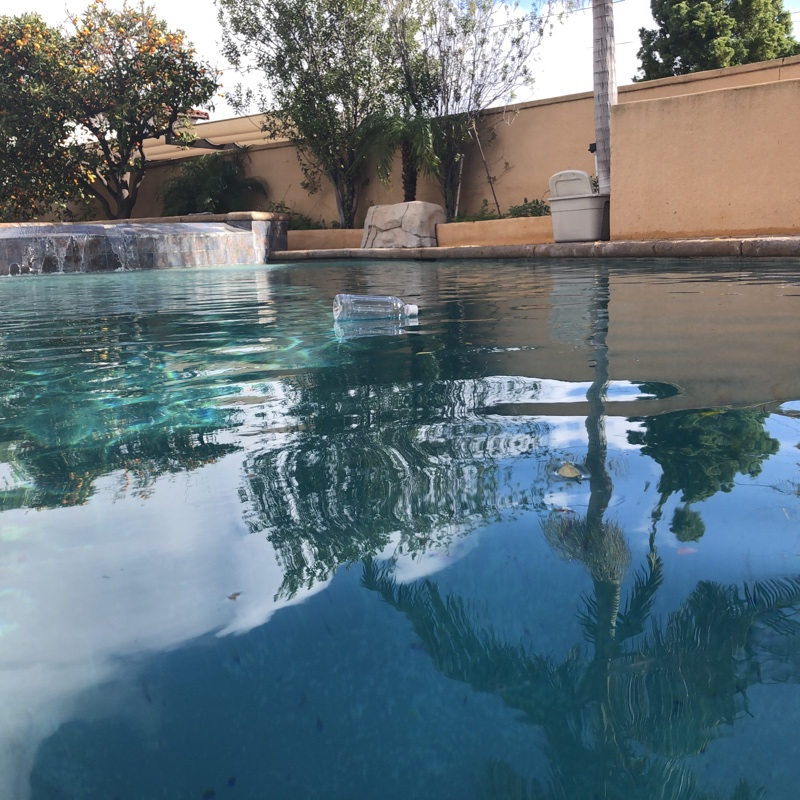Plastic Bottle: (330, 290, 419, 324)
